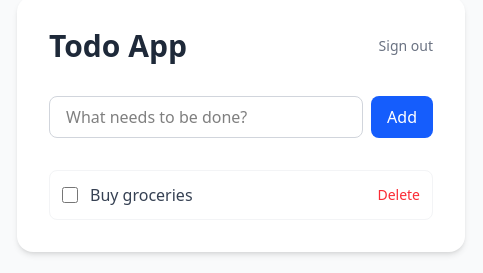
Scenario: Todo App (authenticated) › deletes a todo
The width and height of the screenshot is (483, 273).
Expected: the text "Buy groceries" is shown, x1=90 y1=184 x2=192 y2=206
Click the button "Delete" at (399, 195), box x1=377 y1=185 x2=420 y2=205
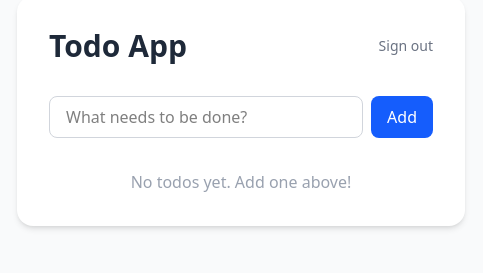
Expected: the text "Buy groceries" is gone
